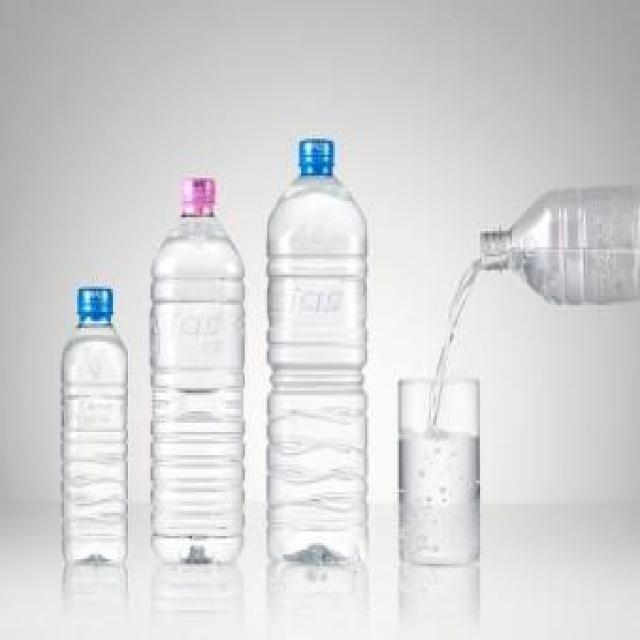bottle: (262, 138, 374, 564), (145, 179, 247, 563), (480, 185, 640, 311)
